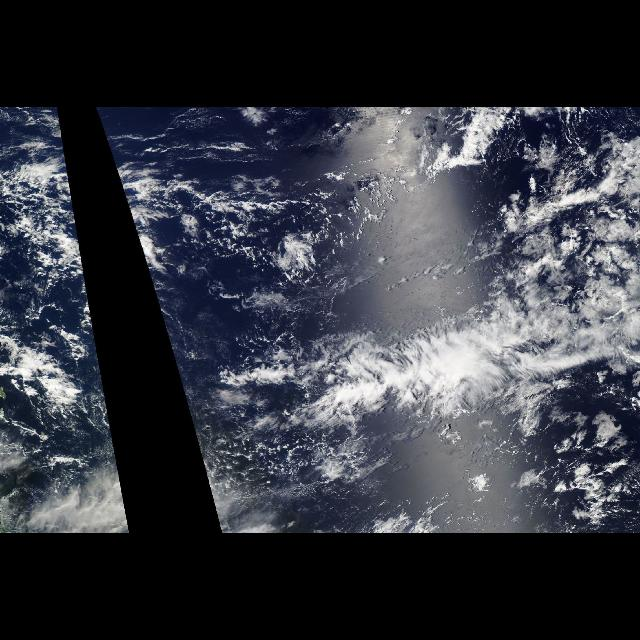Fish: (169, 214, 639, 526)
